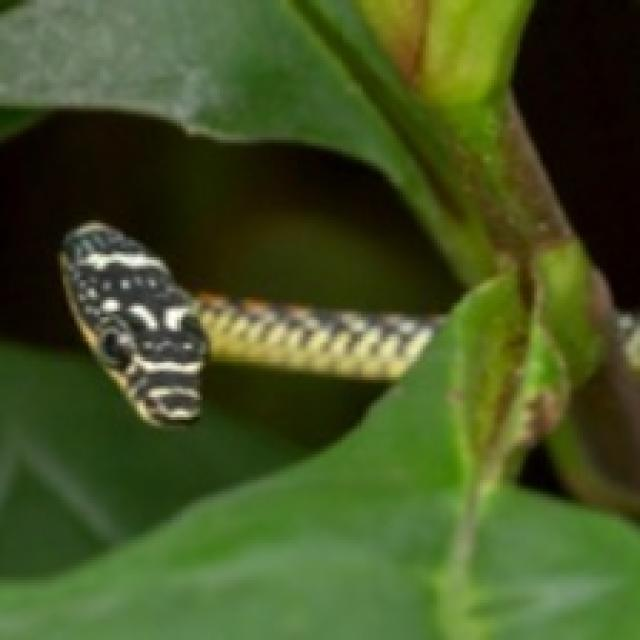paradise tree snake: (60, 223, 440, 426), (454, 374, 563, 560), (477, 309, 543, 371)
